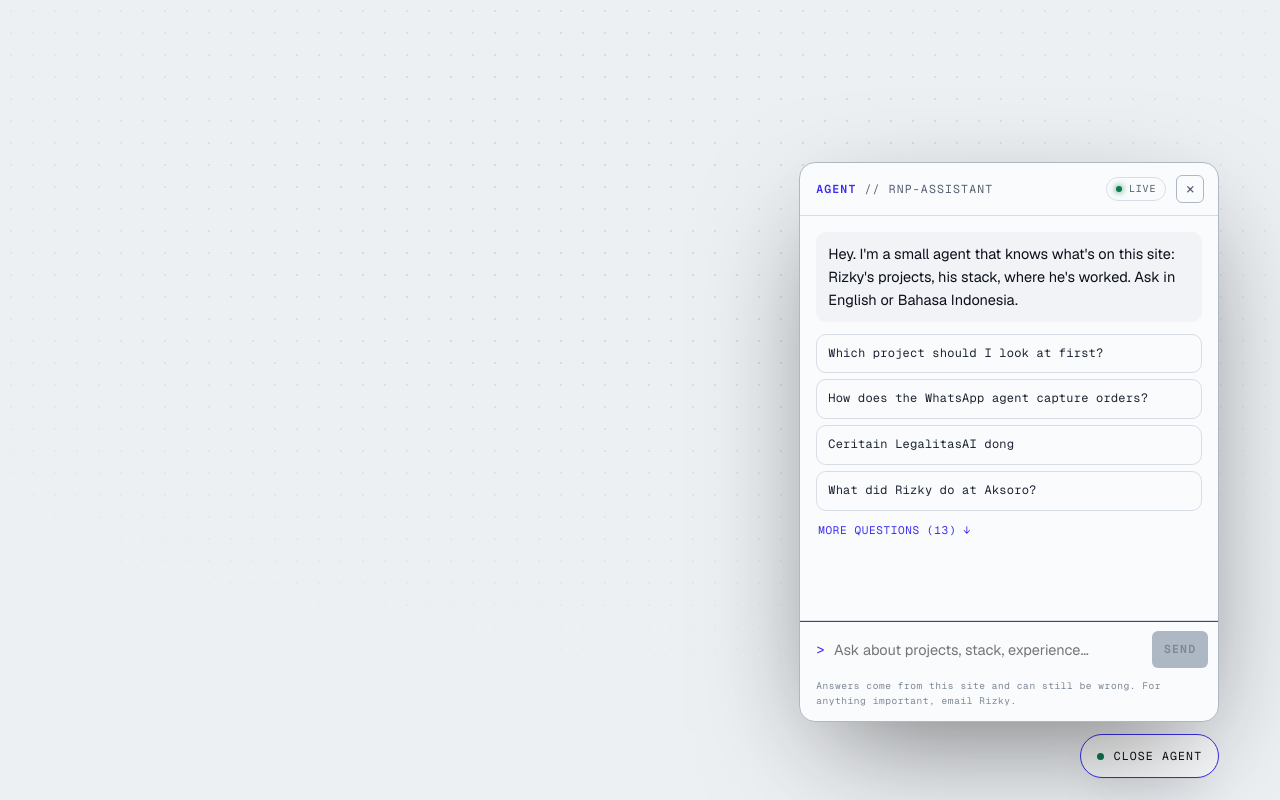
AgentConsole › shows the live reply as plain text
In the field: (989, 649) [834,632,1144,667], type "hello"
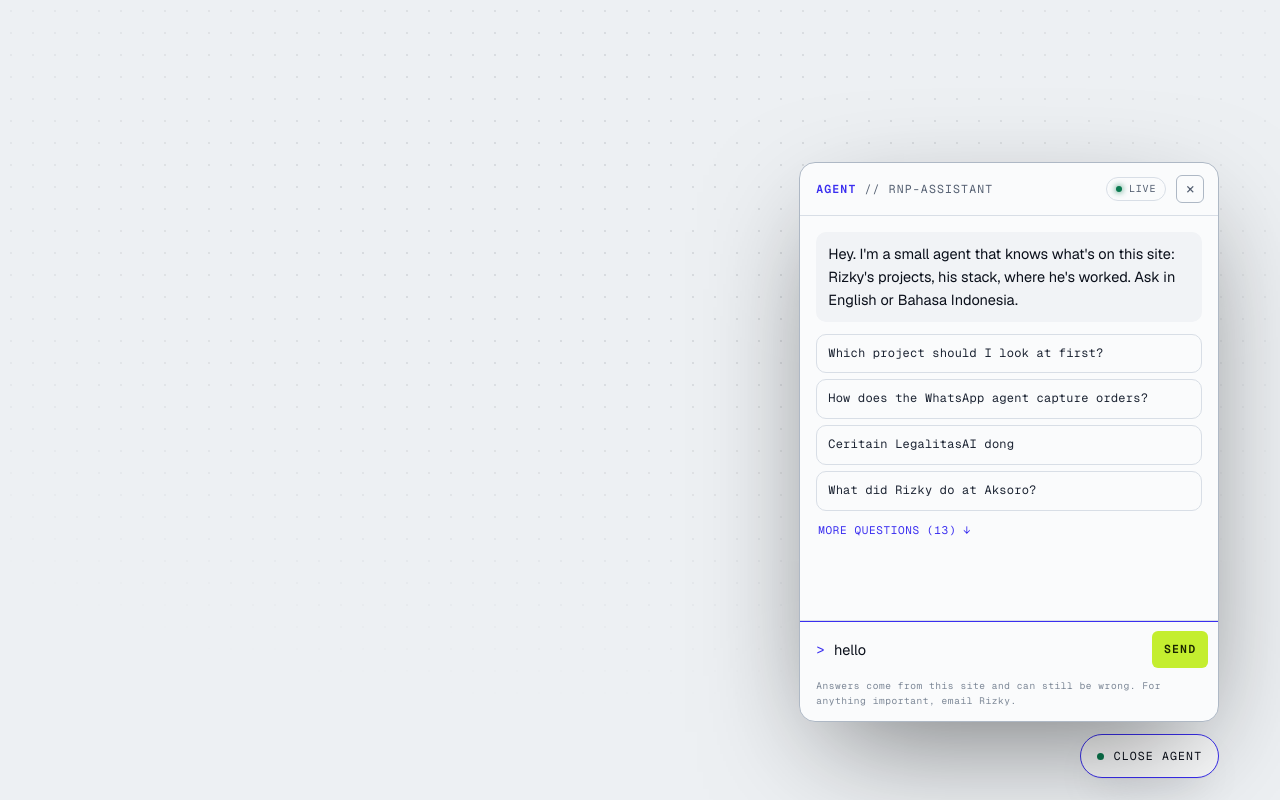
Submit the form, box [800,620,1218,678]
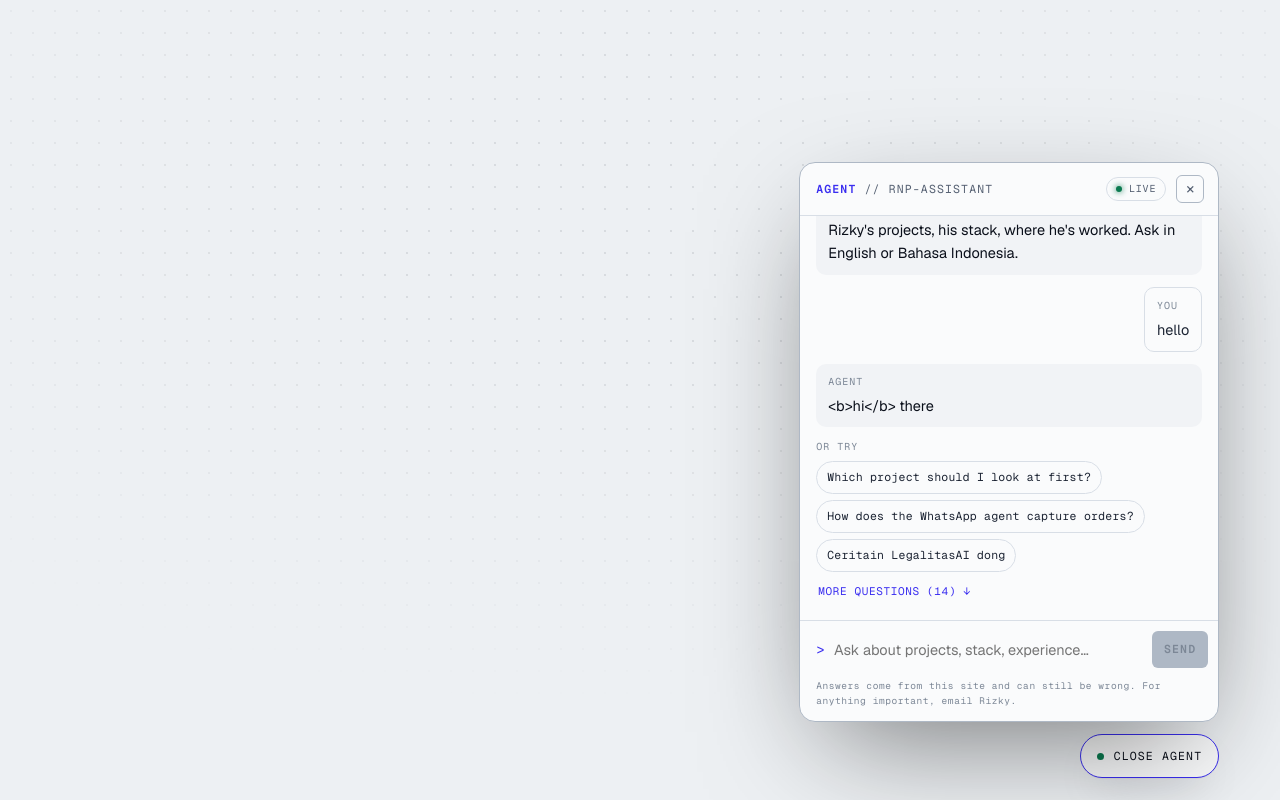
Expected: the text "agent <b>hi</b> there" is shown, [816,364,1202,427]
